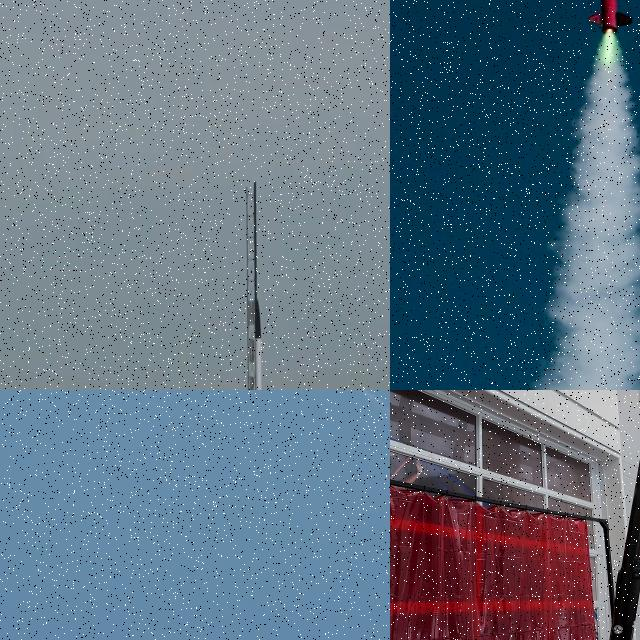Rocket: (609, 462, 640, 640), (247, 297, 271, 390), (587, 0, 633, 34)
